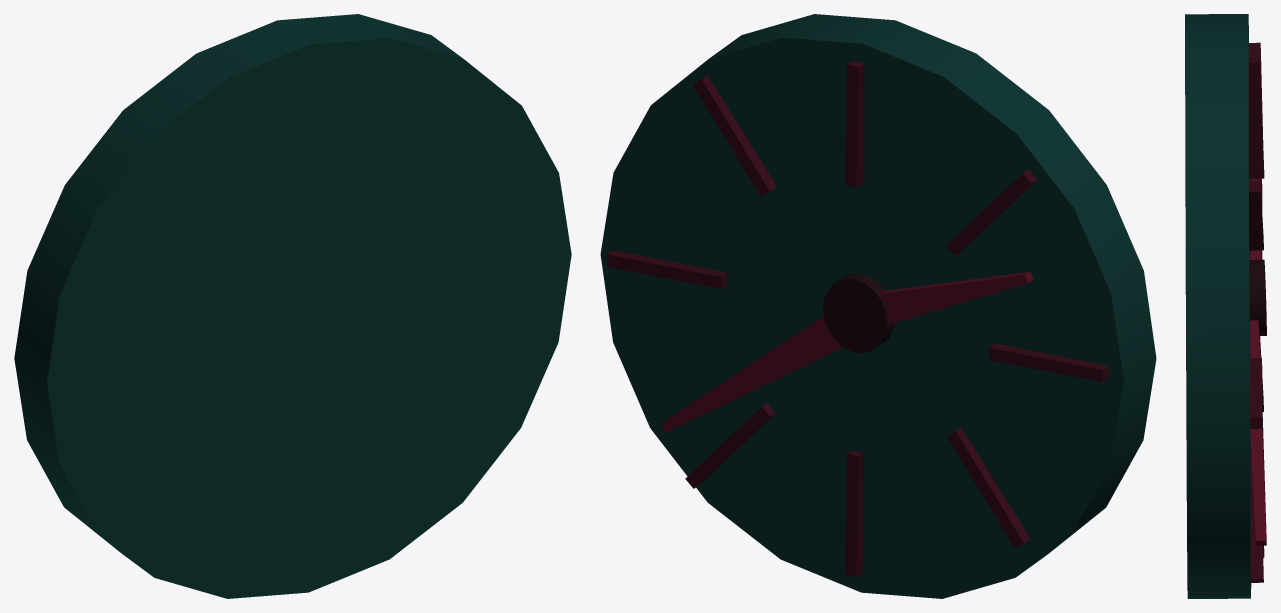
Rendered from clock.obj.
3 views of the same model, side by side, from view 1: azimuth 30°, elevation 25°; view 2: azimuth 150°, elevation 25°; view 3: azimuth 270°, elevation 25° (orthographic). The views are drawn at different scales.
Parts seen in each view (by area): view 1: polySurface7_Untitled.001; view 2: polySurface7_Untitled.001, polySurface7_Untitled, polySurface7_Untitled.002, polySurface7_Untitled.003; view 3: polySurface7_Untitled.001, polySurface7_Untitled, polySurface7_Untitled.002, polySurface7_Untitled.003.
Boxes of the visible parts, box(x1,y1,x2,y2) form: polySurface7_Untitled.001: box(14, 14, 571, 598); polySurface7_Untitled.001: box(600, 14, 1156, 598); polySurface7_Untitled: box(607, 61, 1109, 577); polySurface7_Untitled.002: box(661, 271, 1033, 432); polySurface7_Untitled.003: box(823, 273, 894, 352); polySurface7_Untitled.001: box(1185, 14, 1251, 598); polySurface7_Untitled: box(1248, 42, 1264, 582); polySurface7_Untitled.002: box(1249, 178, 1266, 545); polySurface7_Untitled.003: box(1249, 259, 1266, 335).
Bounding box in the file's own units: 99.95 × 100 × 13.88.
